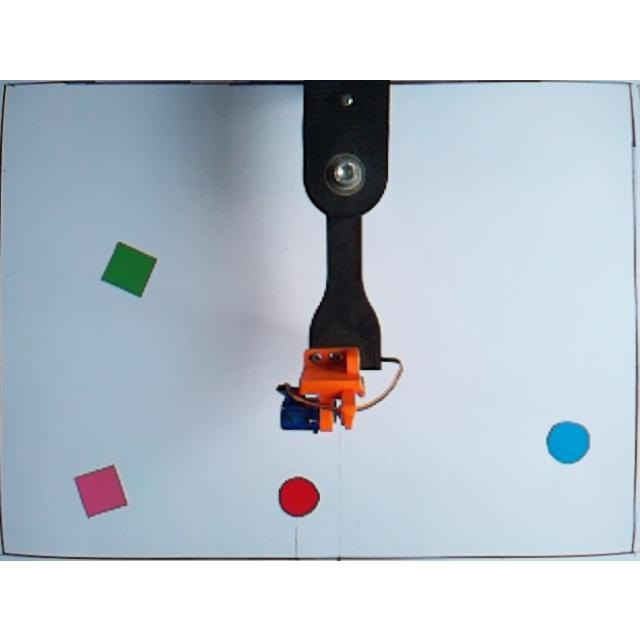blueCircle: (546, 420, 592, 464)
greenSquare: (100, 239, 158, 299)
pinkSquare: (75, 462, 129, 516)
redCircle: (277, 472, 321, 518)
